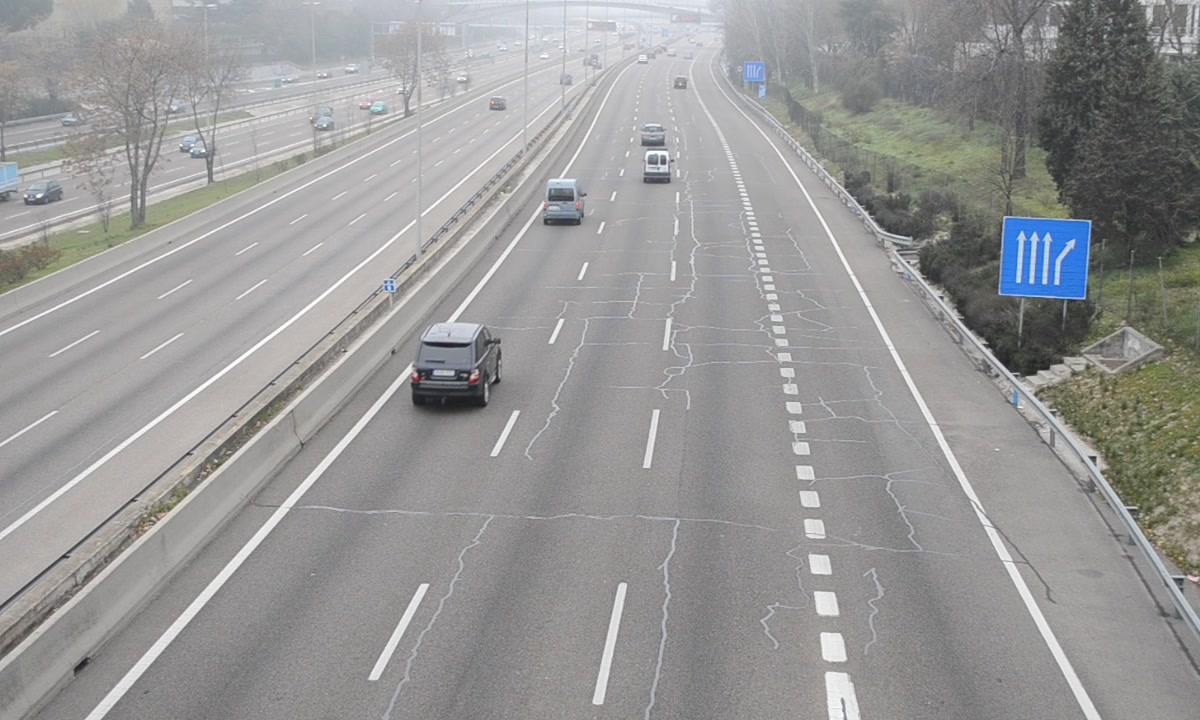car: (413, 325, 502, 401)
van: (544, 178, 583, 223), (641, 149, 673, 186)
